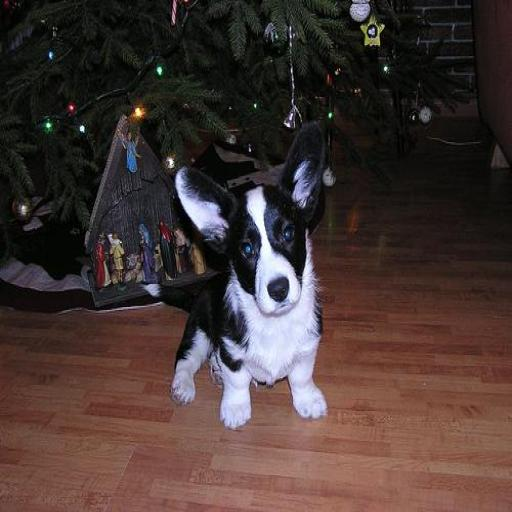dog_face: (182, 138, 330, 319)
